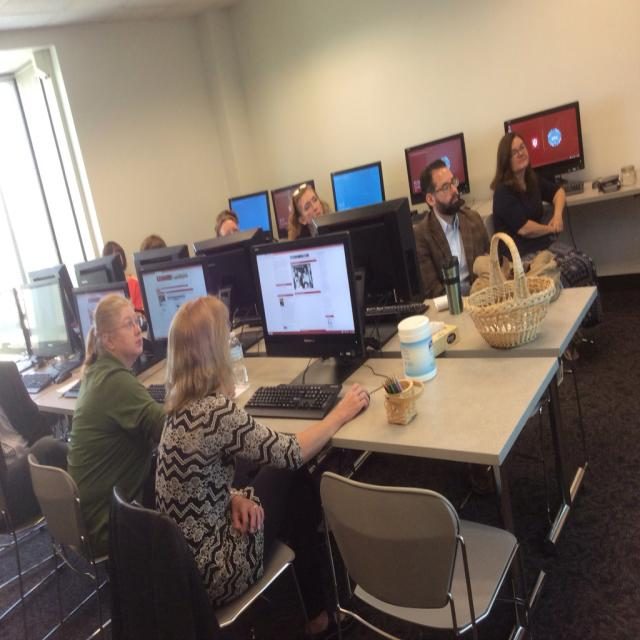chair: (319, 474, 539, 639), (107, 487, 305, 637), (28, 458, 111, 636)
desk: (145, 362, 560, 640)
keyboard: (242, 384, 340, 417)
person: (154, 293, 370, 627), (67, 294, 165, 553), (490, 129, 600, 325), (412, 160, 490, 297), (287, 182, 324, 240), (102, 240, 127, 271), (215, 211, 239, 237), (141, 234, 167, 251)
tv: (250, 232, 366, 361), (312, 196, 425, 320), (136, 252, 210, 344), (504, 101, 584, 179), (14, 266, 77, 361), (404, 132, 470, 212), (330, 160, 386, 212), (228, 190, 273, 235)
